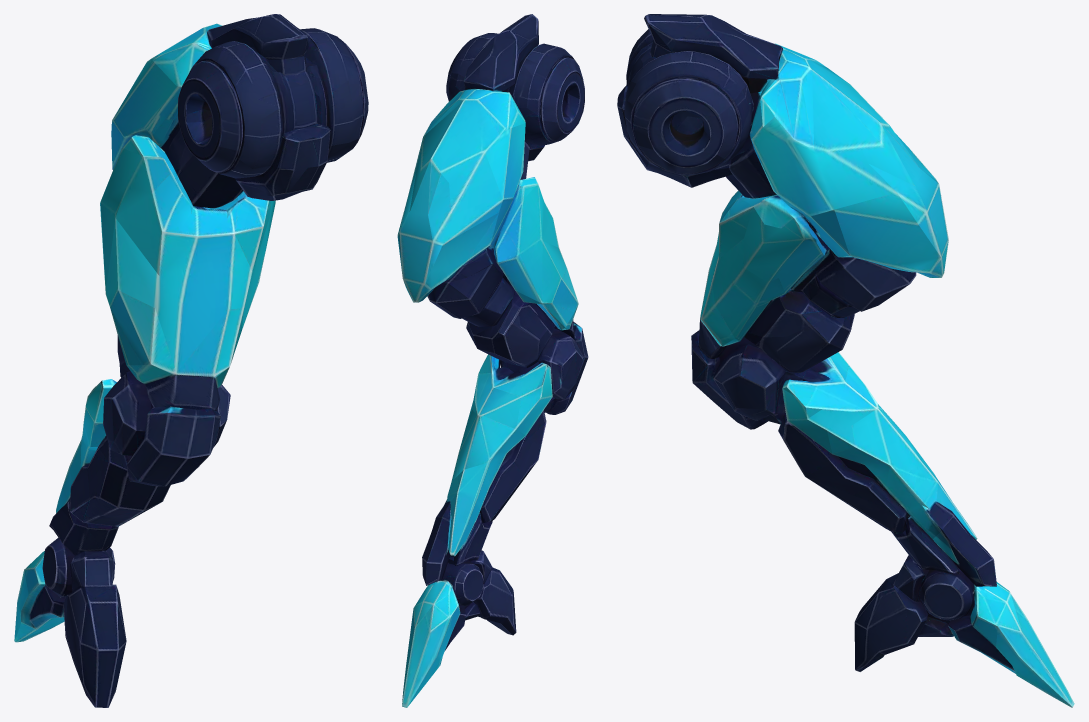
3 views of the same model, side by side, from view 1: azimuth 30°, elevation 25°; view 2: azimuth 150°, elevation 25°; view 3: azimuth 270°, elevation 25° (orthographic). The views are drawn at different scales.
Visible parts, largest first — view 1: output_unwrapped; view 2: output_unwrapped; view 3: output_unwrapped.
Boxes of the visible parts, x1=… form: output_unwrapped: x1=14, y1=14, x2=368, y2=707; output_unwrapped: x1=397, y1=14, x2=588, y2=707; output_unwrapped: x1=617, y1=14, x2=1074, y2=707.
Size of the model in its own units: 0.5216 by 1.9 by 1.1.
1 material, 1 textured.
